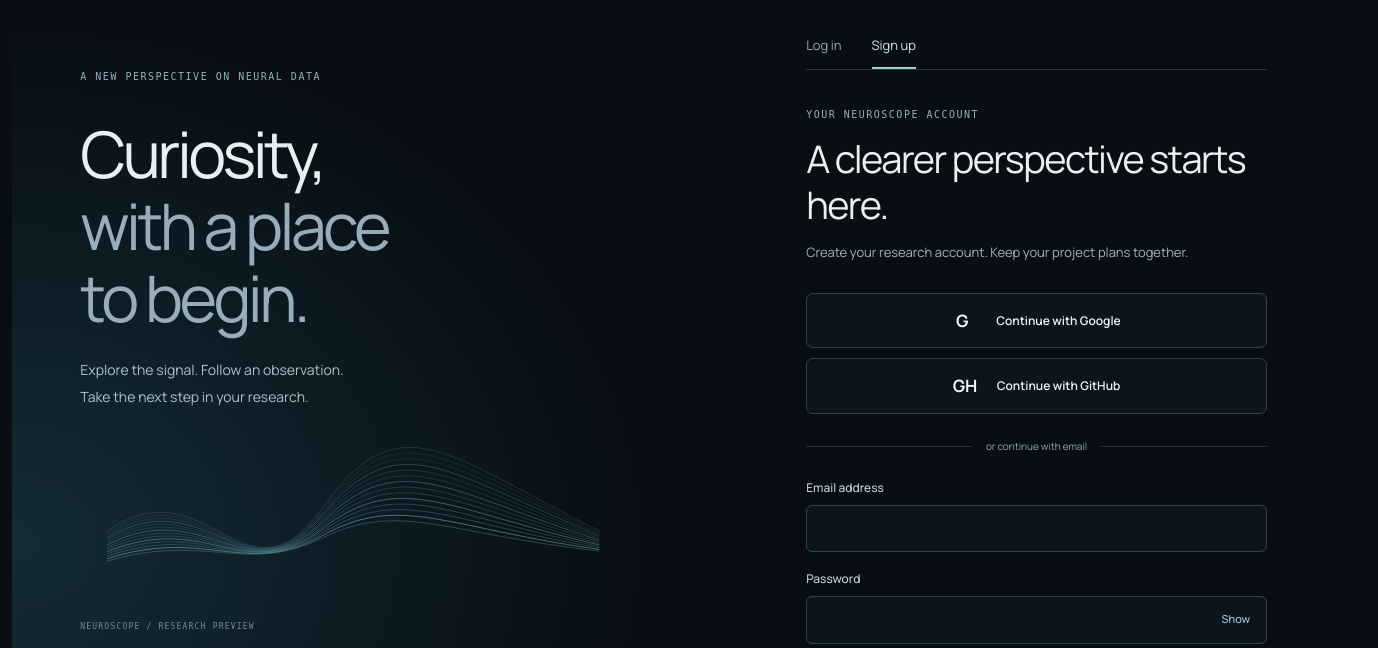
Test: Account UI with mocked Supabase responses (not live auth) › waits for email confirmation without pretending a session exists
Step 1. Type "researcher@example.test" into the field labelled "Email address" → [1036, 529], box [806,505,1267,552]
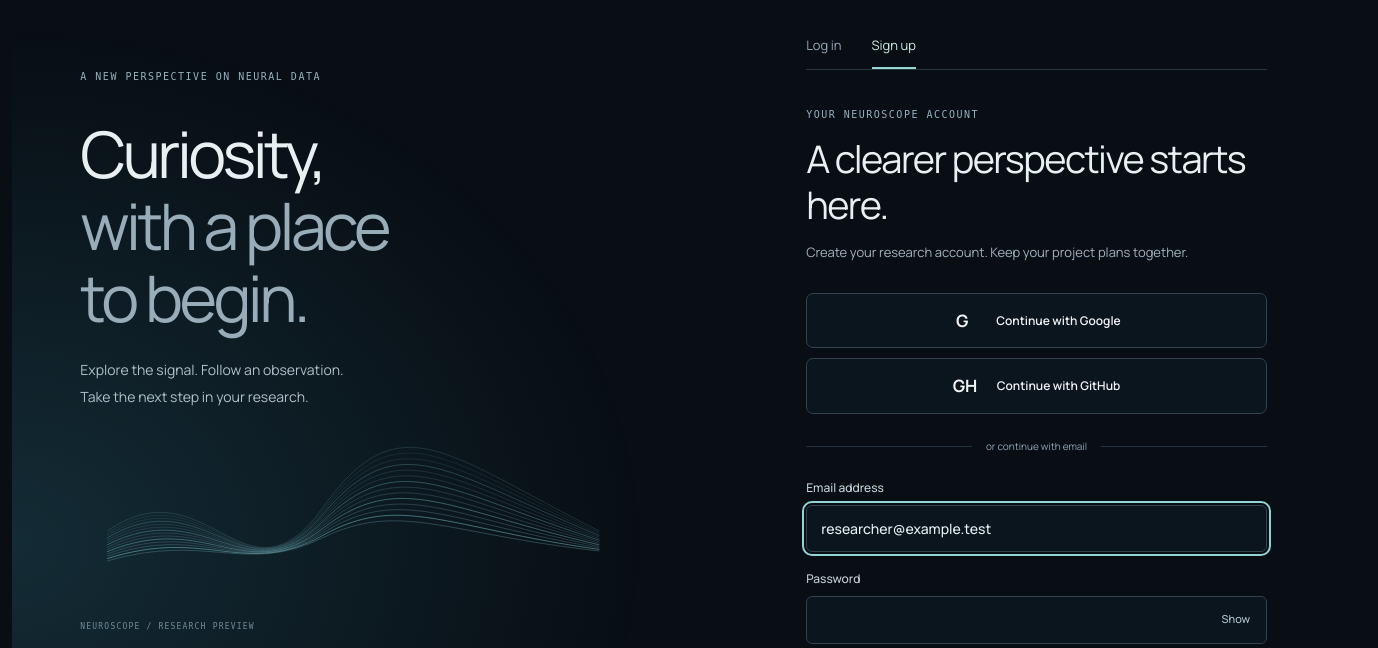
Step 2. Type "correct-password" into the password field labelled "Password" → [1036, 620], box [806,596,1267,644]
(page scrolled)
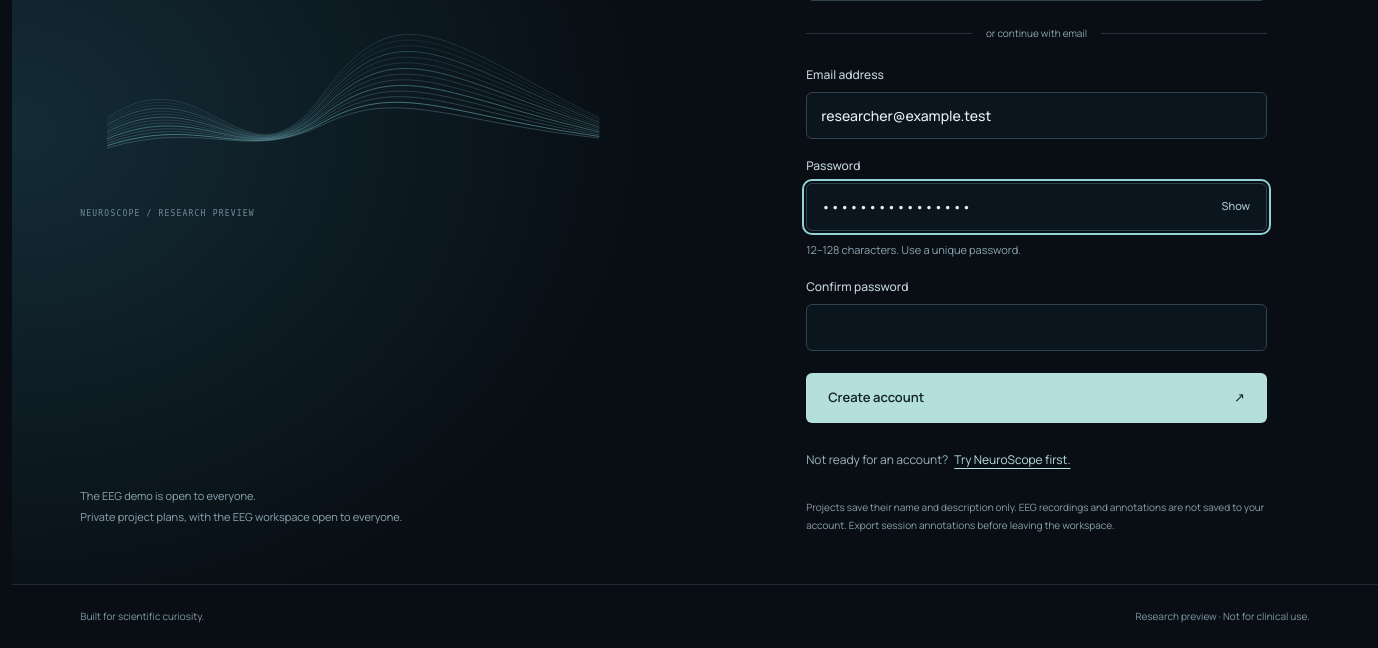
Step 3. Type "correct-password" into the password field labelled "Confirm password" → [1036, 328], box [806,304,1267,351]
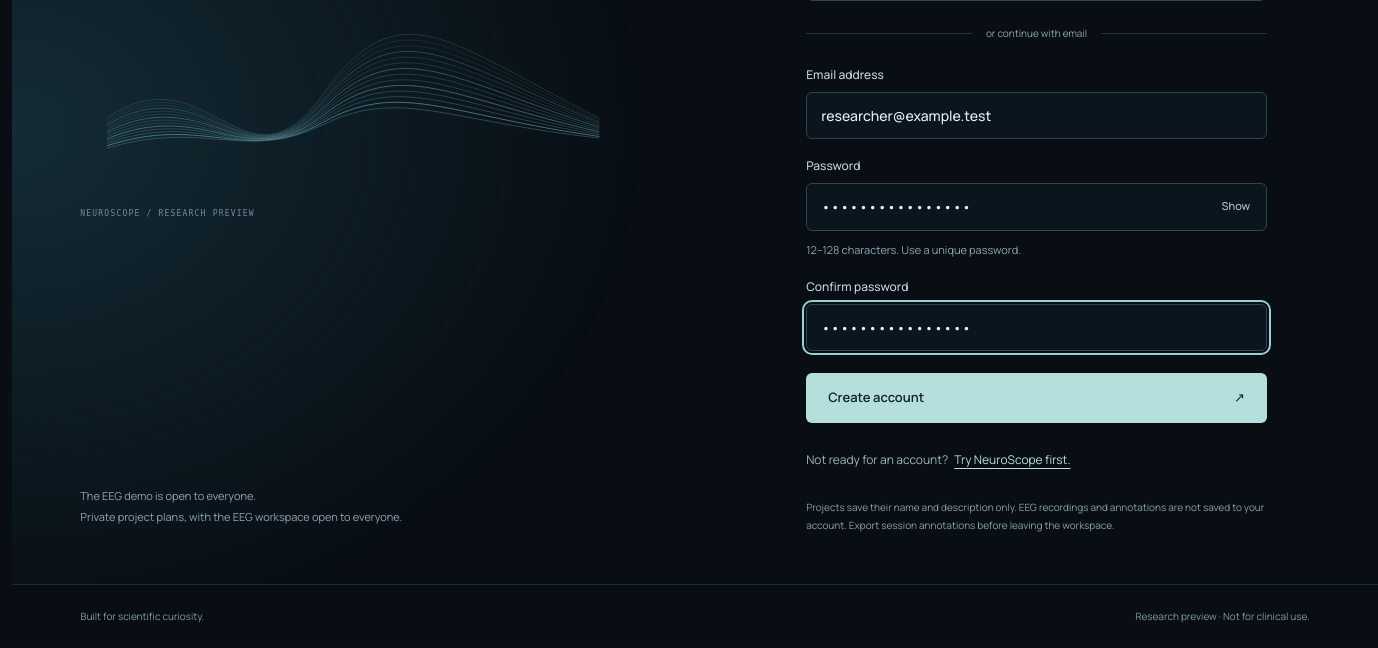
Step 4. Click the button "Create account ↗" → [876, 397], box [806,373,1267,423]
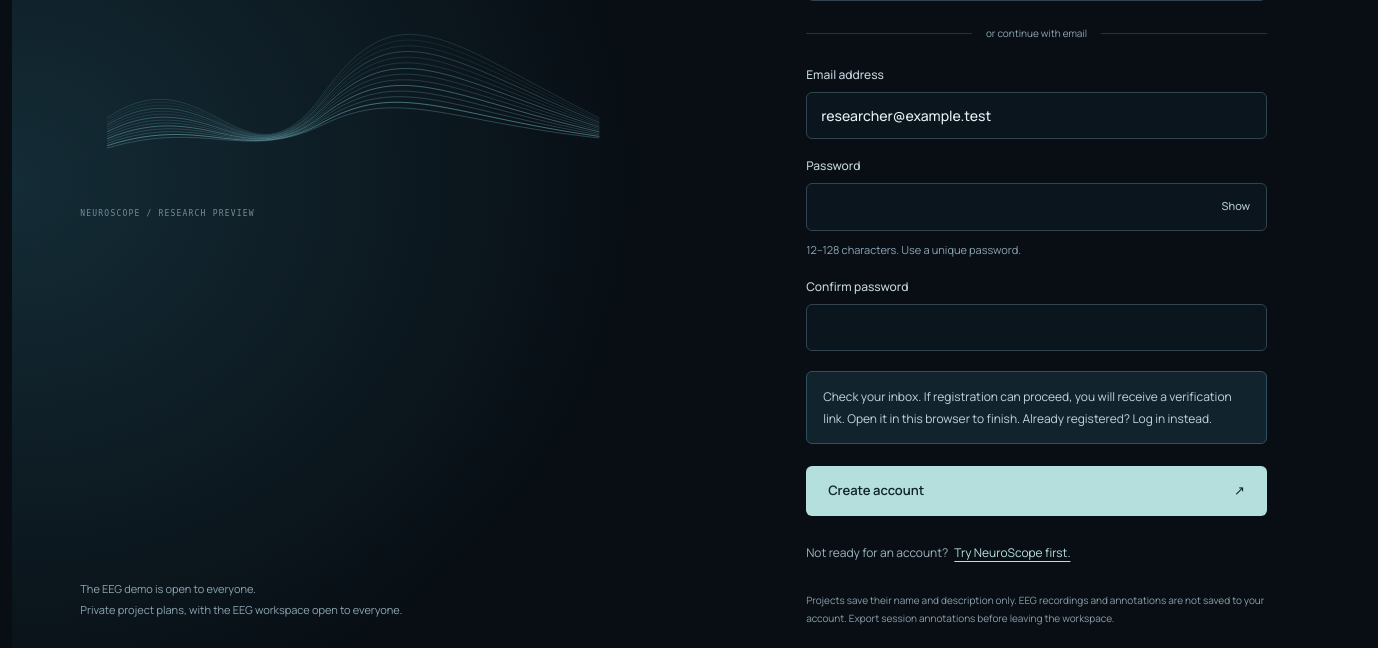
Check: the text "If registration can proceed" is shown, box [823,388,1232,427]
Check: the password field labelled "Password" is empty, box [806,183,1267,231]
